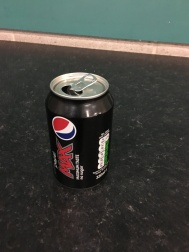can_black: (40, 65, 126, 197)
